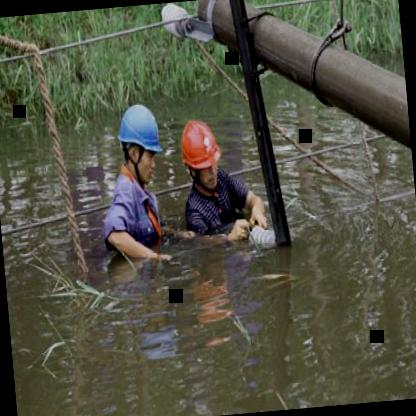helmet: (113, 99, 166, 184), (176, 116, 228, 194)
